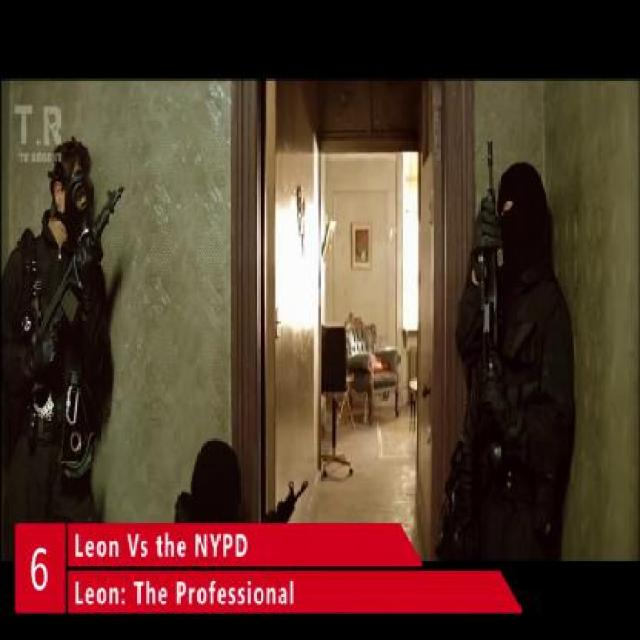Rifle: (24, 183, 127, 352), (469, 138, 507, 410), (260, 479, 309, 524)
